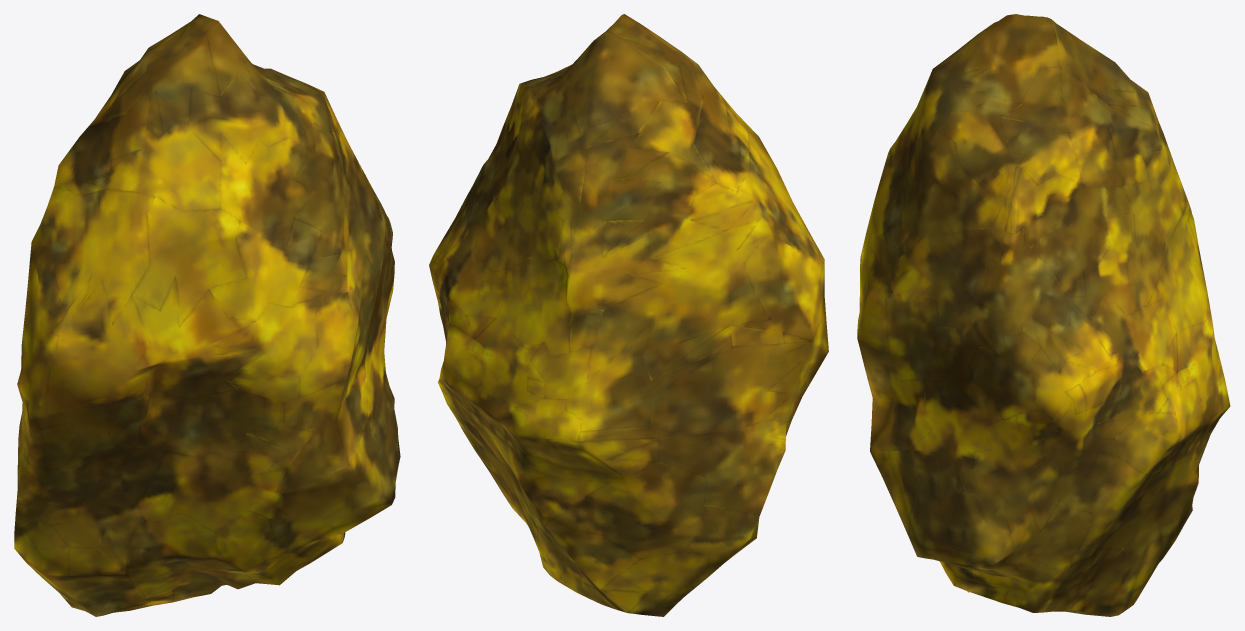
The model's file is item-9.gltf.
The picture shows the model from 3 angles, left to right: view 1: azimuth 30°, elevation 25°; view 2: azimuth 150°, elevation 25°; view 3: azimuth 270°, elevation 25°; orthographic projection. The views are drawn at different scales.
Parts seen in each view (by area): view 1: ore_shared_10_silver_9_sulfuric__exp; view 2: ore_shared_10_silver_9_sulfuric__exp; view 3: ore_shared_10_silver_9_sulfuric__exp.
Boxes of the visible parts, x1,y1,x2,y2 form: ore_shared_10_silver_9_sulfuric__exp: [14, 14, 400, 616]; ore_shared_10_silver_9_sulfuric__exp: [429, 14, 828, 616]; ore_shared_10_silver_9_sulfuric__exp: [857, 14, 1230, 616].
Bounding box in the file's own units: 0.5969 × 0.8785 × 0.4866.
1 material, 1 textured.
